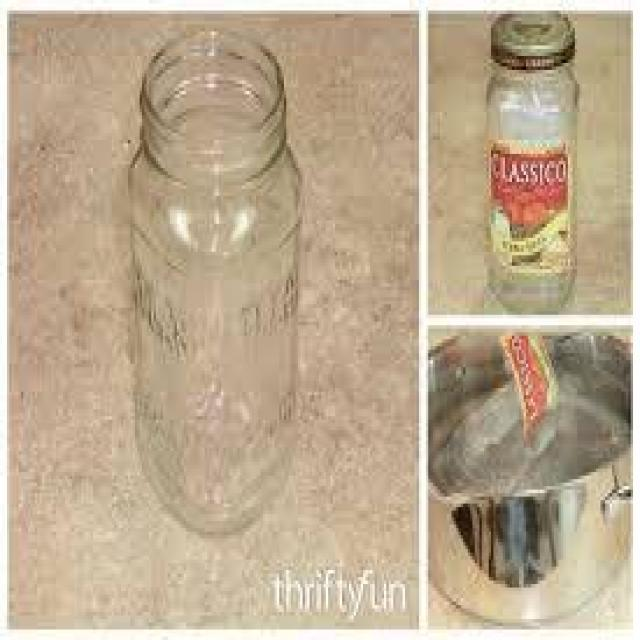non-organic waste: (128, 24, 307, 538), (485, 10, 581, 315)
